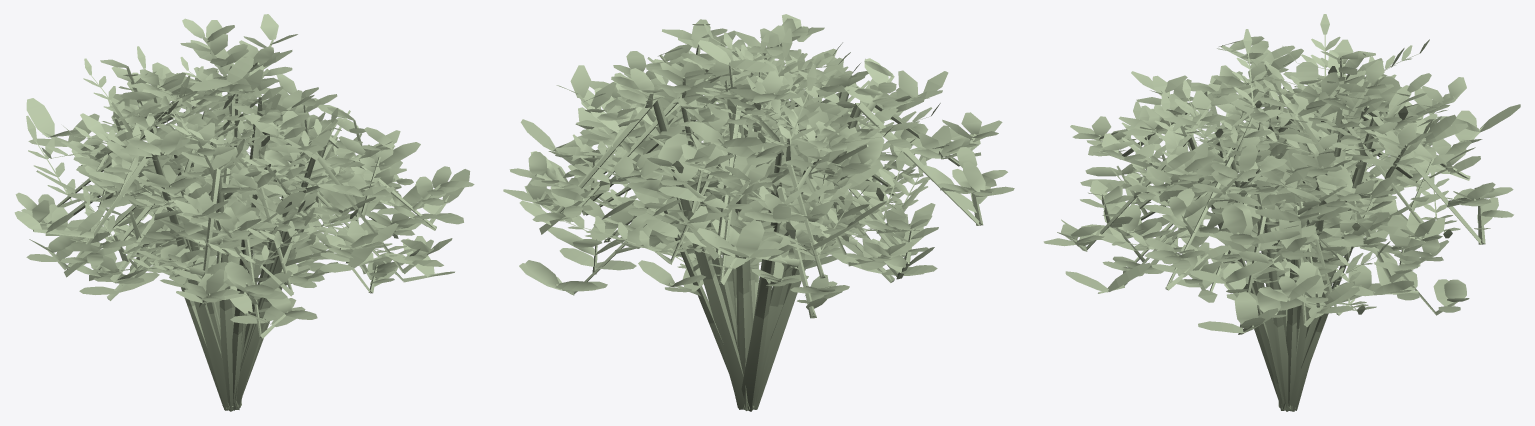
File: shrub_arching.glb
3 views of the same model, side by side, from view 1: azimuth 30°, elevation 25°; view 2: azimuth 150°, elevation 25°; view 3: azimuth 270°, elevation 25° (orthographic). The views are drawn at different scales.
Parts seen in each view (by area): view 1: v0_foliage, v3_foliage, v2_foliage, v1_foliage, v0_bark, v2_bark, v1_bark, v3_bark; view 2: v0_foliage, v3_foliage, v2_foliage, v1_foliage, v2_bark, v0_bark, v3_bark, v1_bark; view 3: v0_foliage, v3_foliage, v2_foliage, v1_foliage, v2_bark, v0_bark, v3_bark, v1_bark.
Boxes of the visible parts, <box> form: v0_foliage: <box>21,14,452,303</box>; v3_foliage: <box>26,56,470,326</box>; v2_foliage: <box>14,18,474,287</box>; v1_foliage: <box>26,46,420,272</box>; v0_bark: <box>40,39,433,411</box>; v2_bark: <box>33,36,440,410</box>; v1_bark: <box>36,101,368,410</box>; v3_bark: <box>42,81,449,404</box>; v0_foliage: <box>503,14,1002,263</box>; v3_foliage: <box>519,40,937,292</box>; v2_foliage: <box>509,19,1014,309</box>; v1_foliage: <box>533,23,940,275</box>; v2_bark: <box>535,44,993,411</box>; v0_bark: <box>535,26,976,410</box>; v3_bark: <box>549,62,914,404</box>; v1_bark: <box>598,72,928,409</box>; v0_foliage: <box>1043,39,1475,302</box>; v3_foliage: <box>1065,62,1520,332</box>; v2_foliage: <box>1102,36,1513,317</box>; v1_foliage: <box>1061,14,1460,314</box>; v2_bark: <box>1123,45,1485,410</box>; v0_bark: <box>1068,57,1454,411</box>; v3_bark: <box>1098,83,1483,411</box>; v1_bark: <box>1127,75,1436,410</box>.
Size of the model in its own units: 1.37 by 1 by 1.25.
